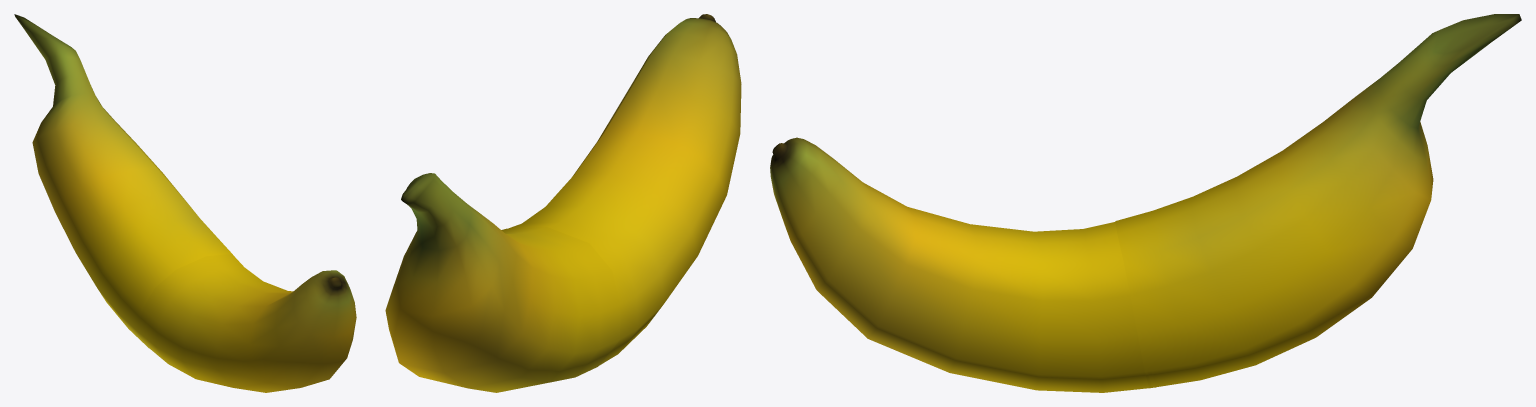
The model's file is бананиш.fbx.
The picture shows the model from 3 angles, left to right: view 1: azimuth 30°, elevation 25°; view 2: azimuth 150°, elevation 25°; view 3: azimuth 270°, elevation 25°; orthographic projection. The views are drawn at different scales.
Visible parts, largest first — view 1: правая часть; view 2: правая часть; view 3: правая часть.
Boxes of the visible parts, x1=… form: правая часть: x1=14, y1=14, x2=356, y2=392; правая часть: x1=385, y1=14, x2=741, y2=392; правая часть: x1=770, y1=14, x2=1521, y2=392.
Bounding box in the file's own units: 1.38 × 2.96 × 6.02.
